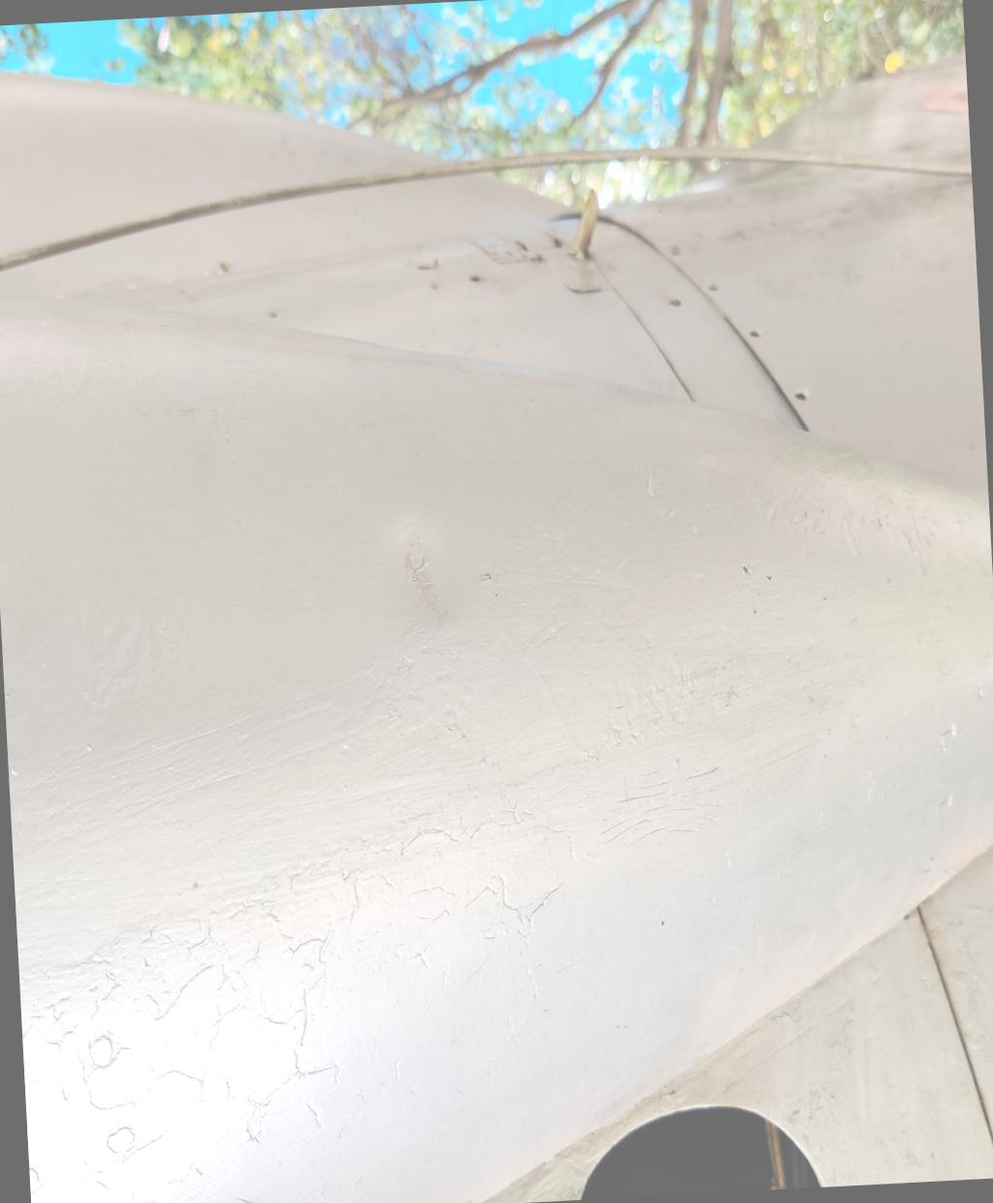dent: (343, 492, 500, 667)
